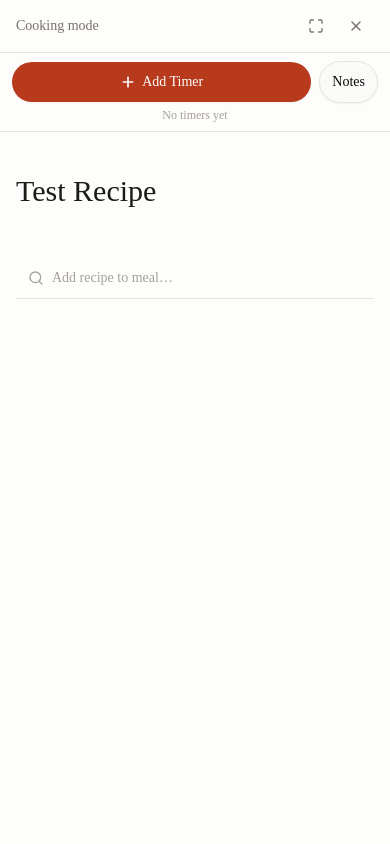
Test: CookingMode — cooking notes › keeps an edit after the modal is closed and reopened
Click the button "Notes". click: (349,82)
box: [319,61,378,103]
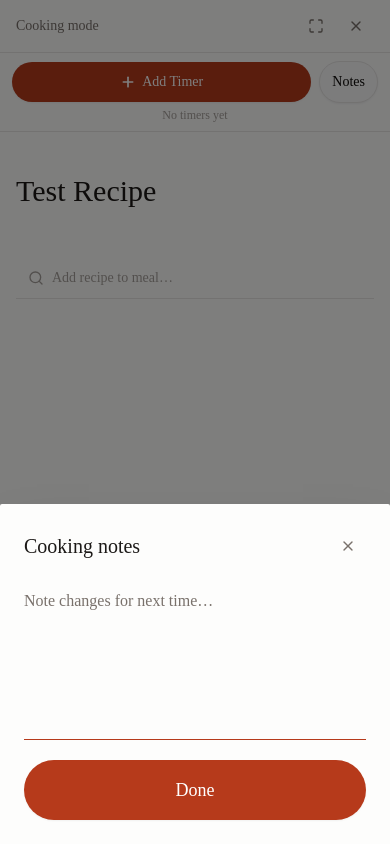
Now the text box with placeholder "Note changes for next time…" is empty
Type "add more garlic" into the text box with placeholder "Note changes for next time…". click: (195,660)
box: [24,580,366,740]
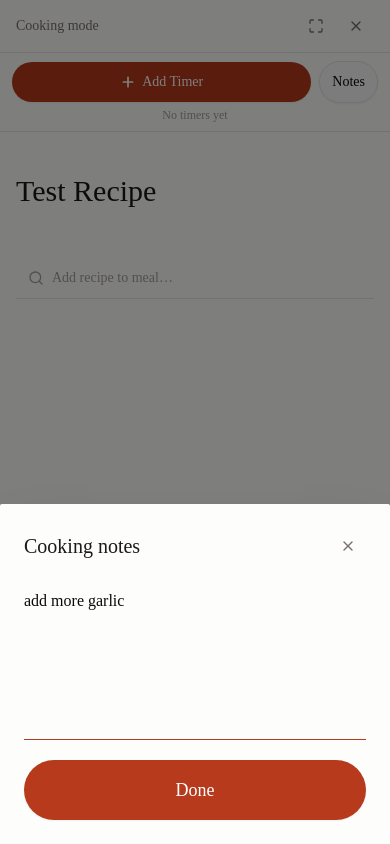
Click the button "Done". click: (195,790)
box: [24,760,366,820]
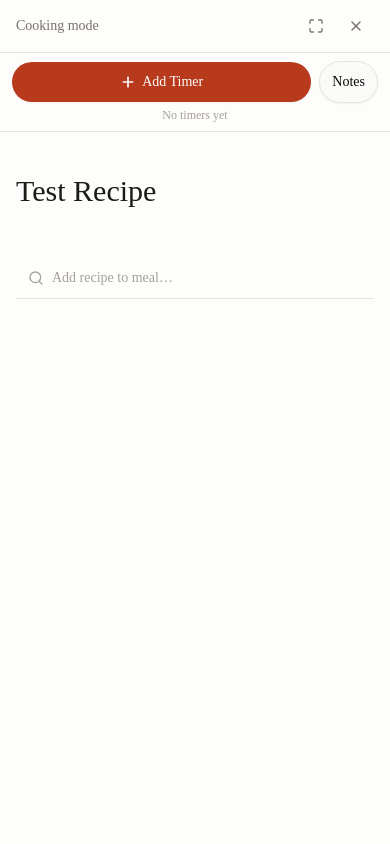
Now the heading "Cooking notes" is gone
Click the button "Notes". click: (349,82)
box: [319,61,378,103]
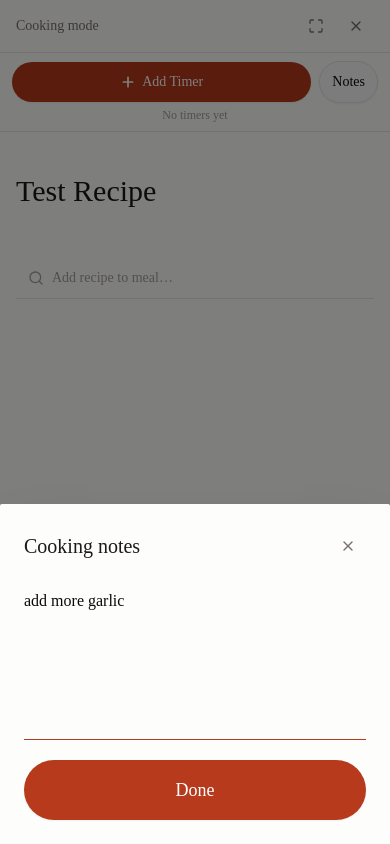
Now the text box with placeholder "Note changes for next time…" holds "add more garlic", box [24,580,366,740]
